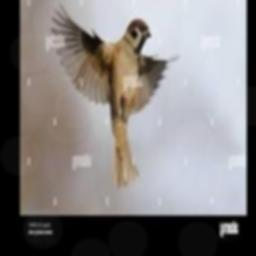Sparrow: (51, 2, 179, 187)
